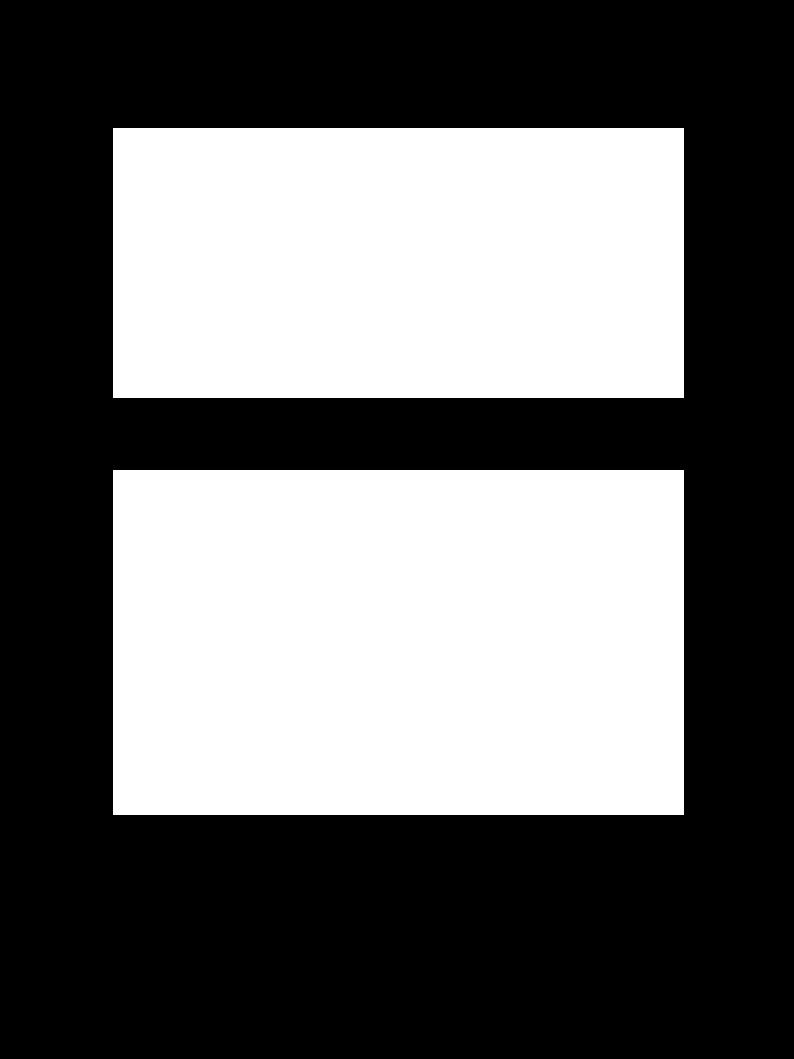table: (113, 470, 683, 814), (113, 128, 683, 397)
